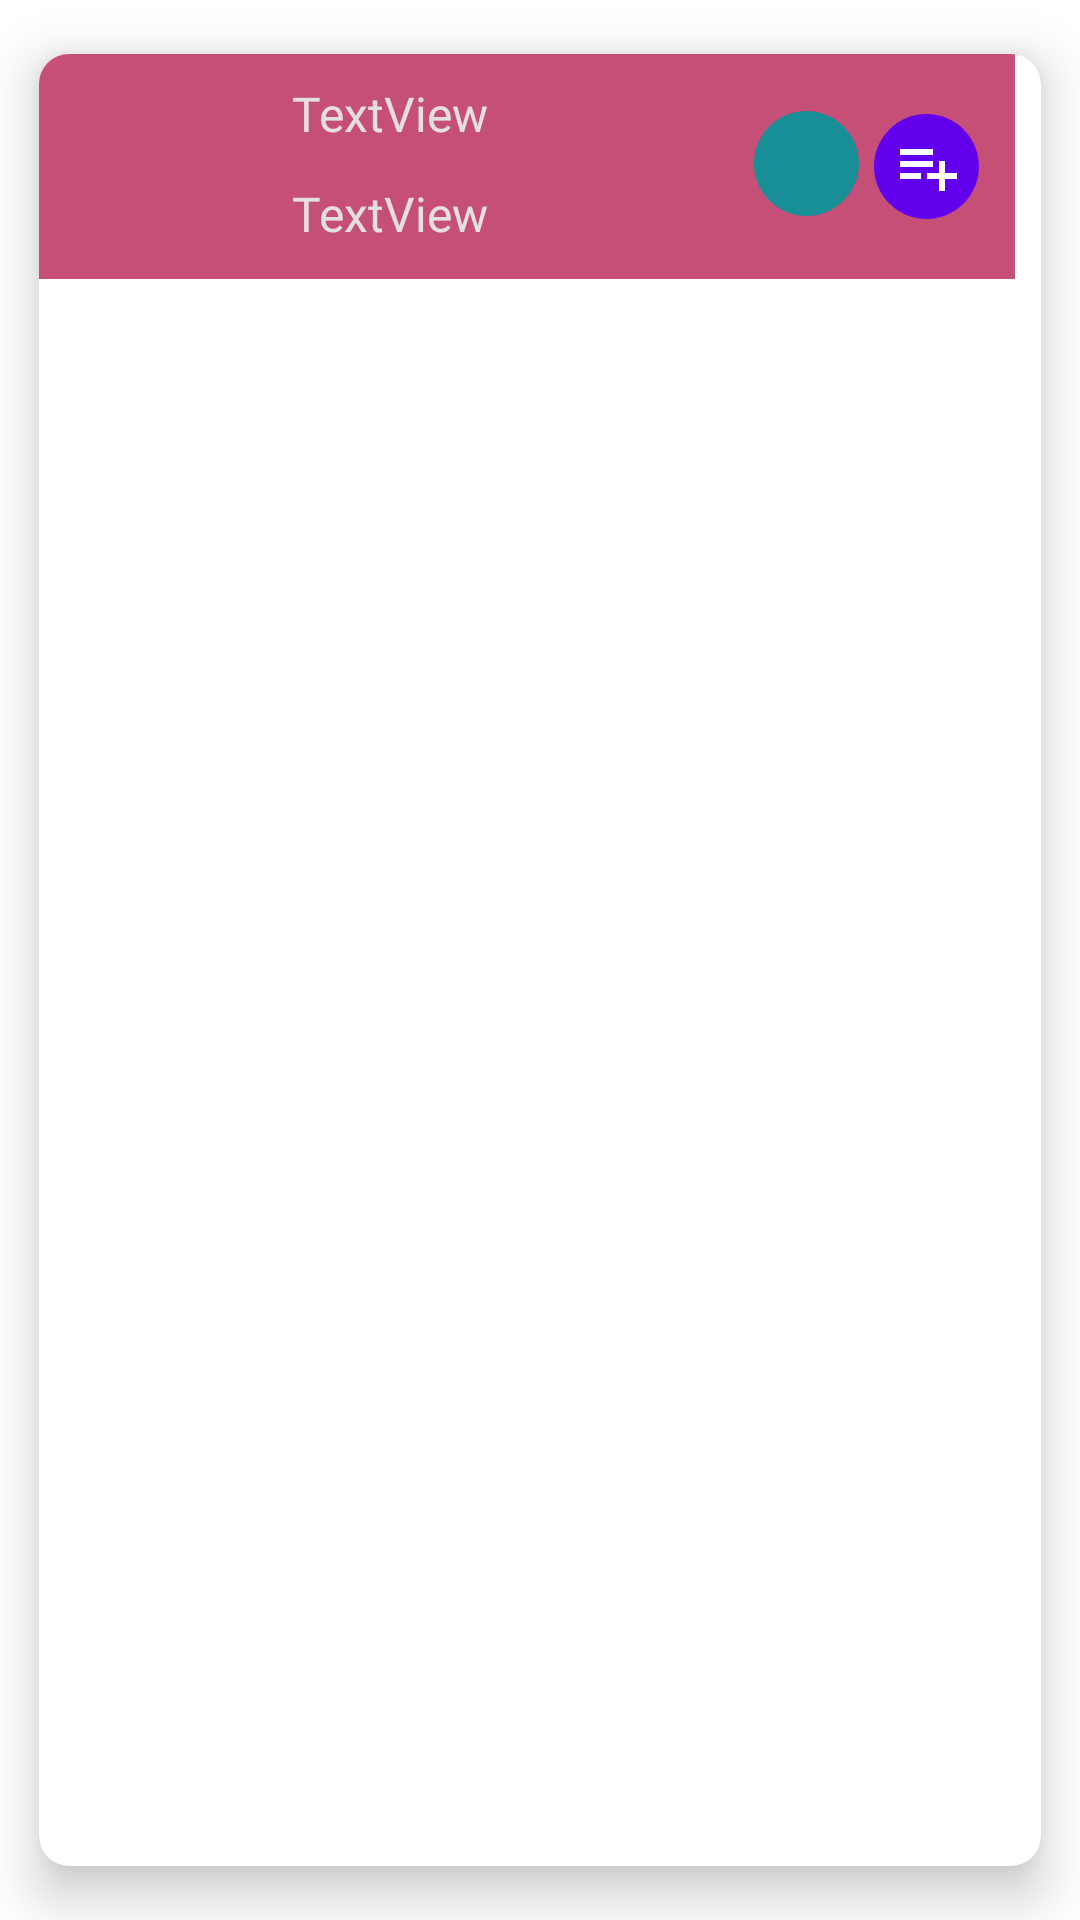

Named icons in this screenshot (1080w x 1920h) and their bounding boxes, (x1, y1, x2, y2):
playlist add: (874, 114, 979, 219)
